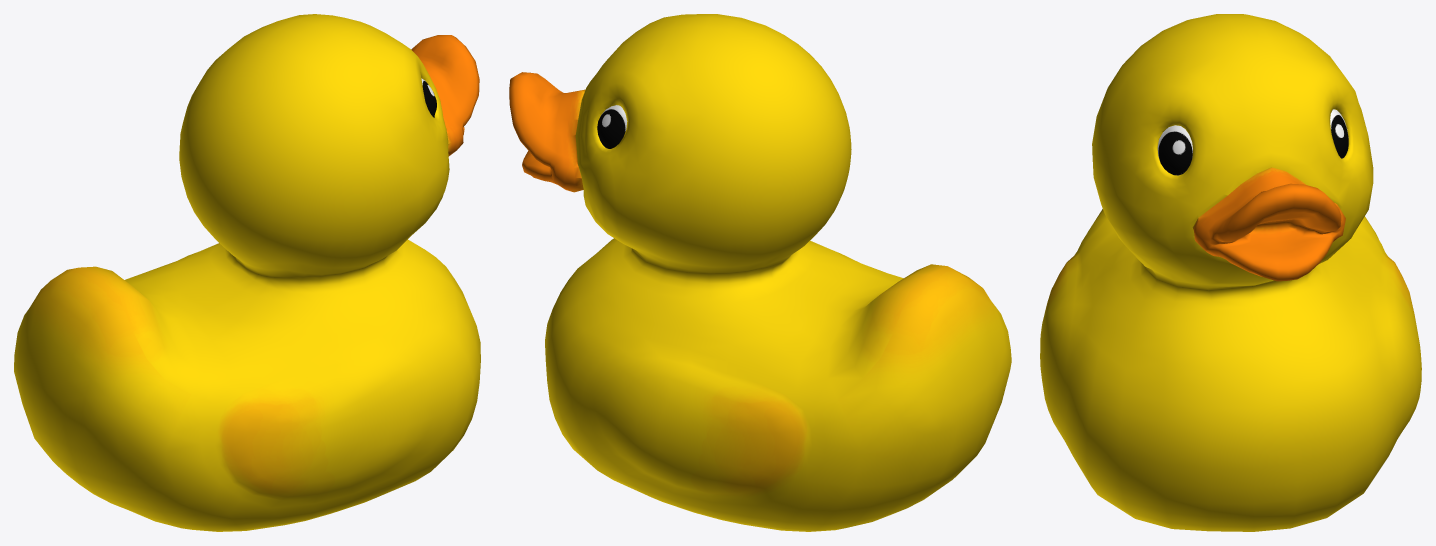
File: Duck_opt.glb
3 views of the same model, side by side, from view 1: azimuth 30°, elevation 25°; view 2: azimuth 150°, elevation 25°; view 3: azimuth 270°, elevation 25° (orthographic). The views are drawn at different scales.
Visible parts, largest first — view 1: LOD3spShape; view 2: LOD3spShape; view 3: LOD3spShape.
Boxes of the visible parts, left/top/right/bottom form: LOD3spShape: left=14, top=14, right=480, bottom=531; LOD3spShape: left=509, top=14, right=1011, bottom=531; LOD3spShape: left=1040, top=14, right=1421, bottom=531.
Bounding box in the file's own units: 1.65 × 1.54 × 1.15.
1 material, 1 textured.
